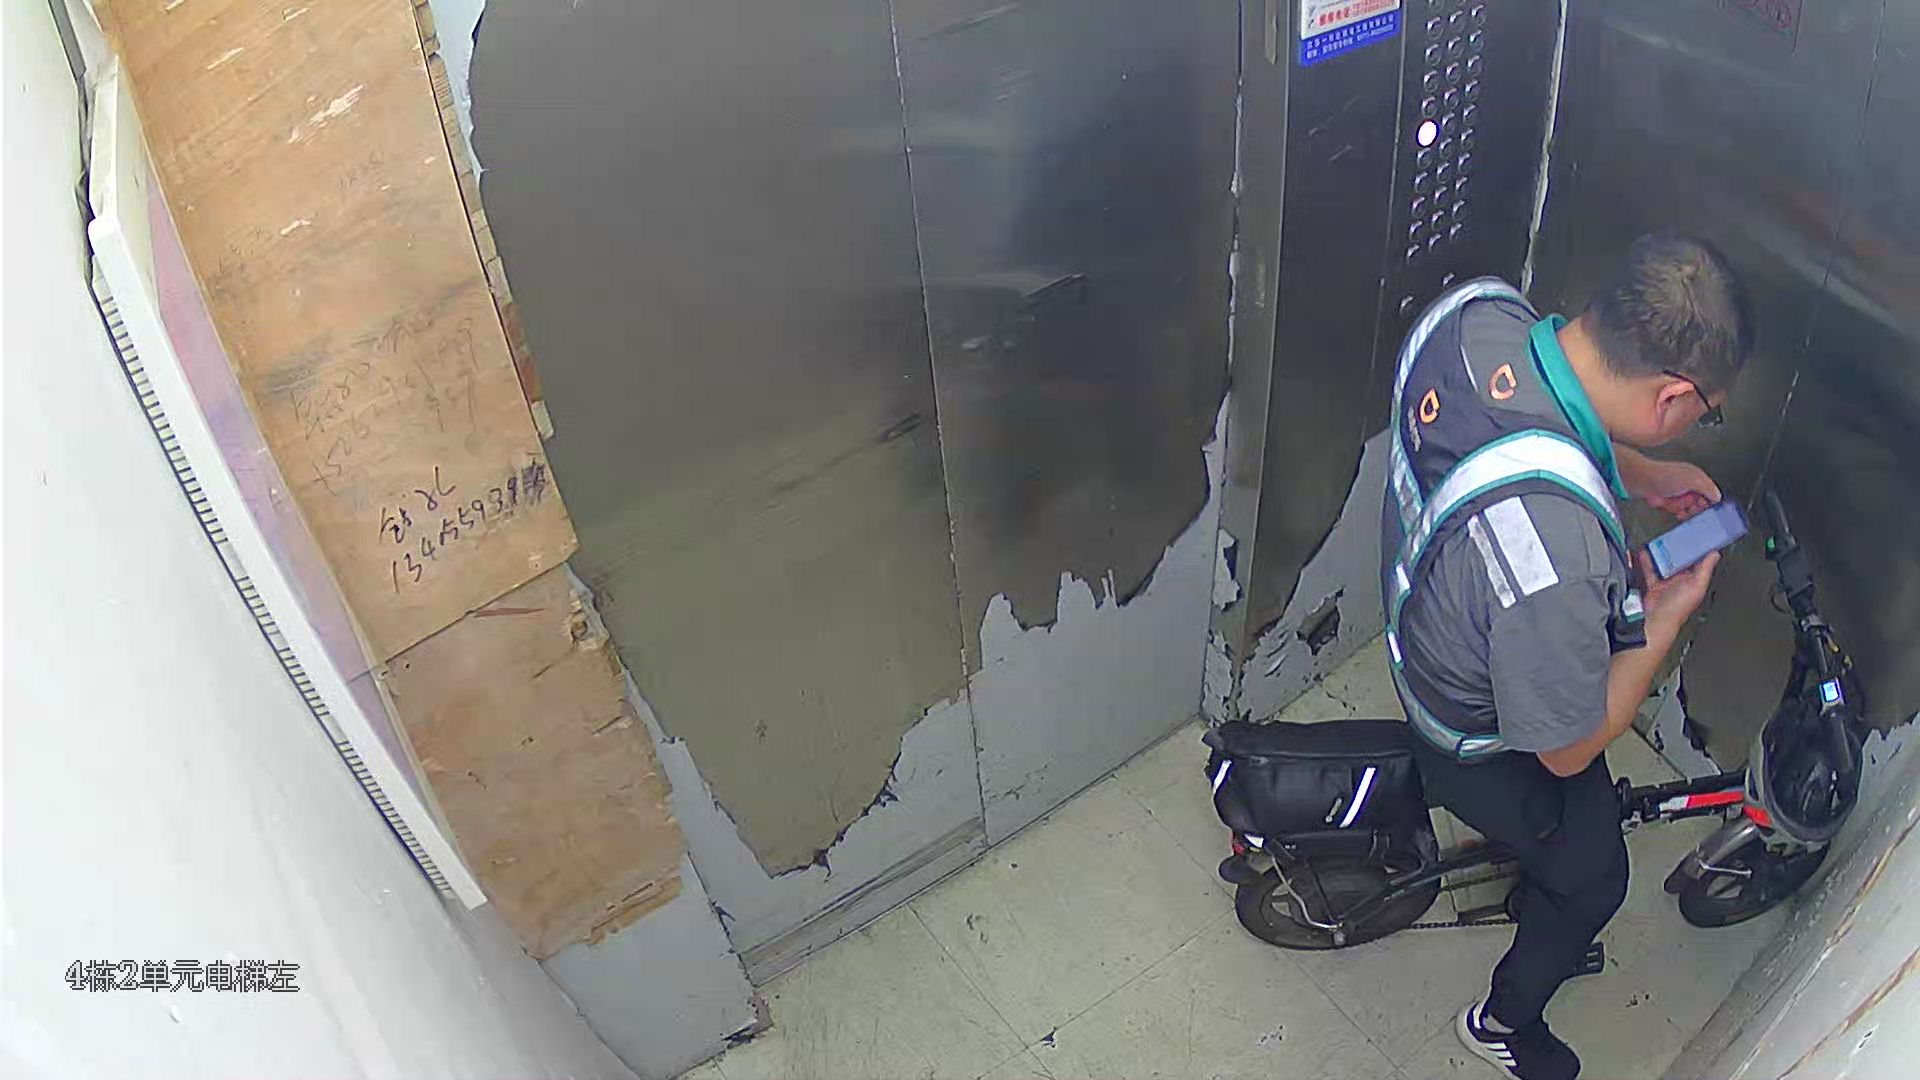Electric-bicycle: (1215, 493, 1867, 978)
